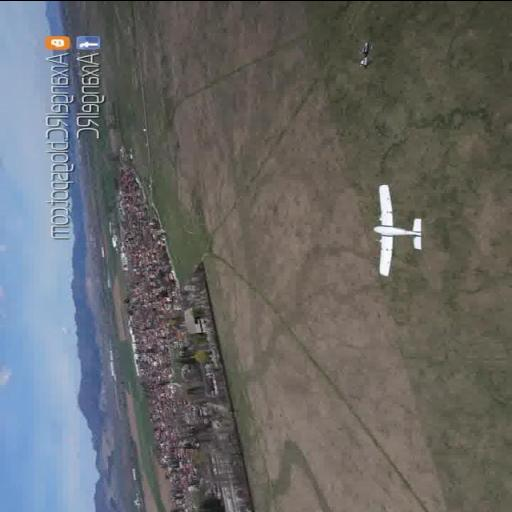uav: (368, 182, 428, 278)
